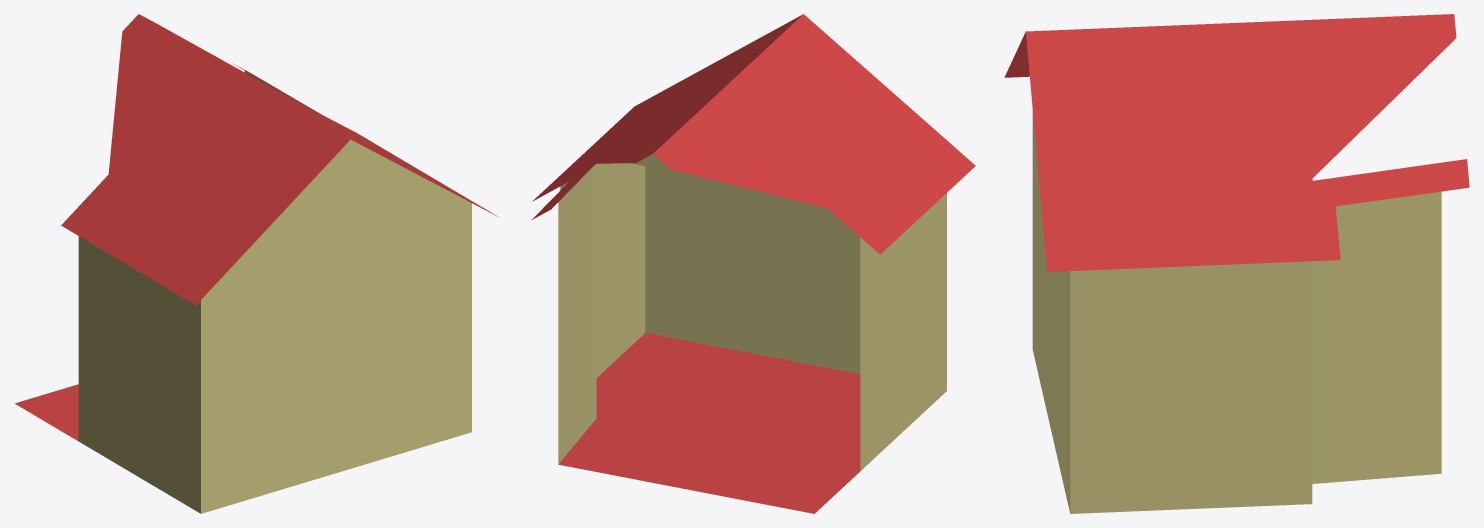
3 renders of one model, left to right at view 1: azimuth 30°, elevation 25°; view 2: azimuth 150°, elevation 25°; view 3: azimuth 270°, elevation 25°, orthographic. The views are drawn at different scales.
Bounding box in the file's own units: 13.6 × 13.51 × 12.87.
